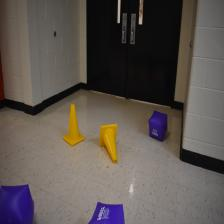cone: (62, 104, 84, 146), (99, 124, 117, 164)
cube: (0, 184, 35, 224), (88, 202, 125, 224), (148, 110, 168, 142)
